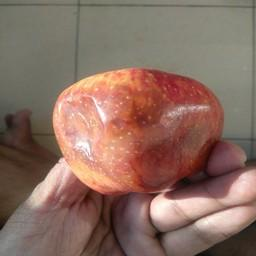Bad_apple: (52, 64, 224, 197)
